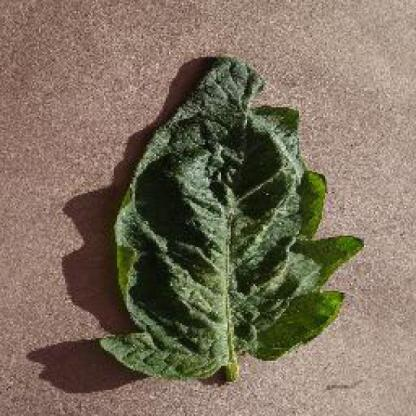Tomato_Spider_Mites: (104, 57, 362, 369)
